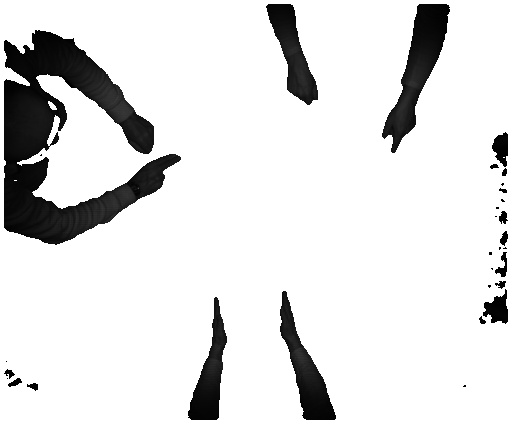fist: (120, 116, 160, 156), (286, 67, 319, 111)
hand: (135, 154, 183, 202), (376, 106, 415, 159)
spine: (280, 288, 303, 342), (208, 296, 231, 349)
